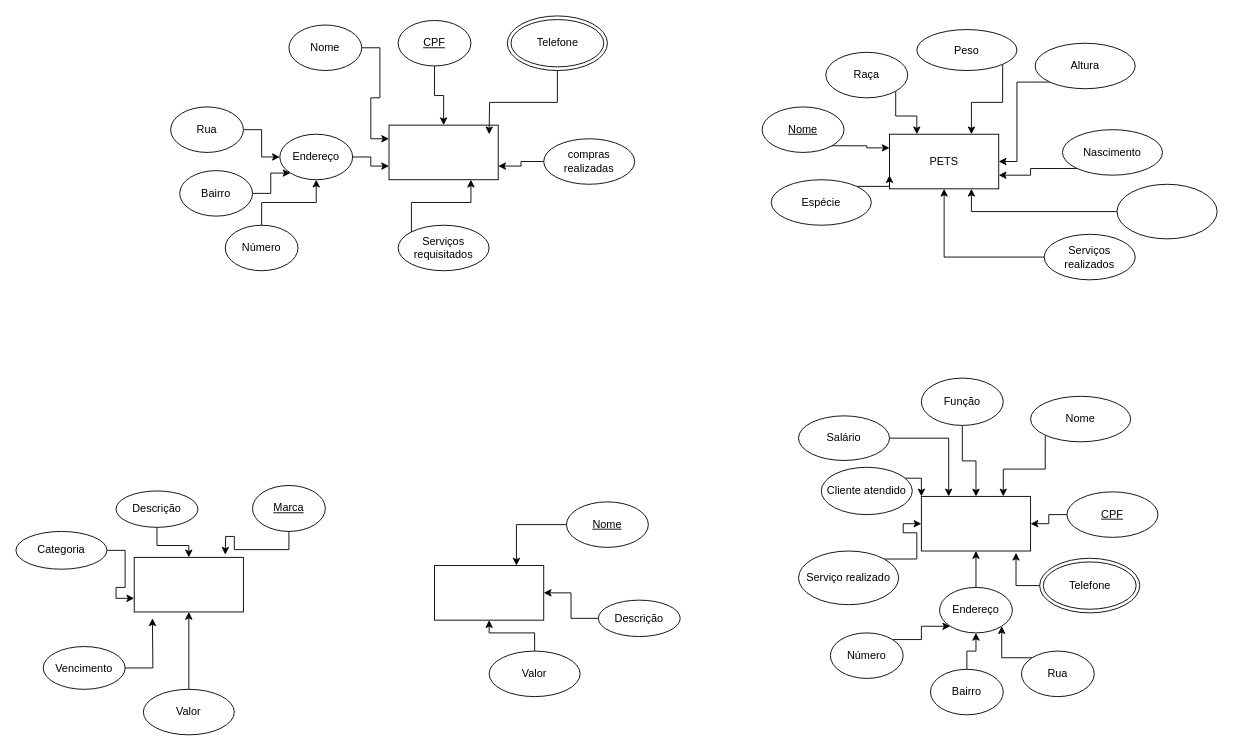
This 1233x751 diagram has some shape labels left out. Each missing label, with the centre of its shape:
Cliente(dono): (1166,211)
CLIENTES: (443,152)
FUNCIONÁRIOS: (975,523)
PRODUTOS: (188,584)
SERVIÇOS: (489,592)
